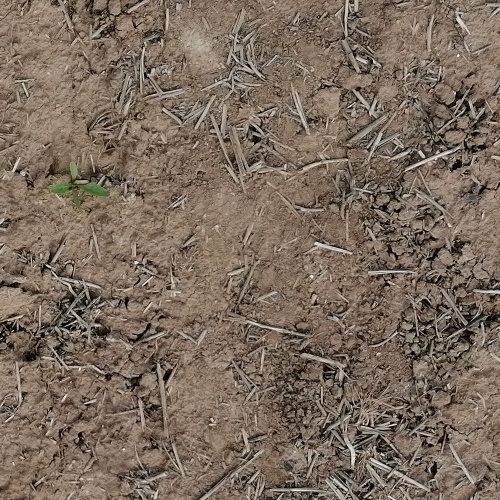beet: (50, 162, 110, 205)
